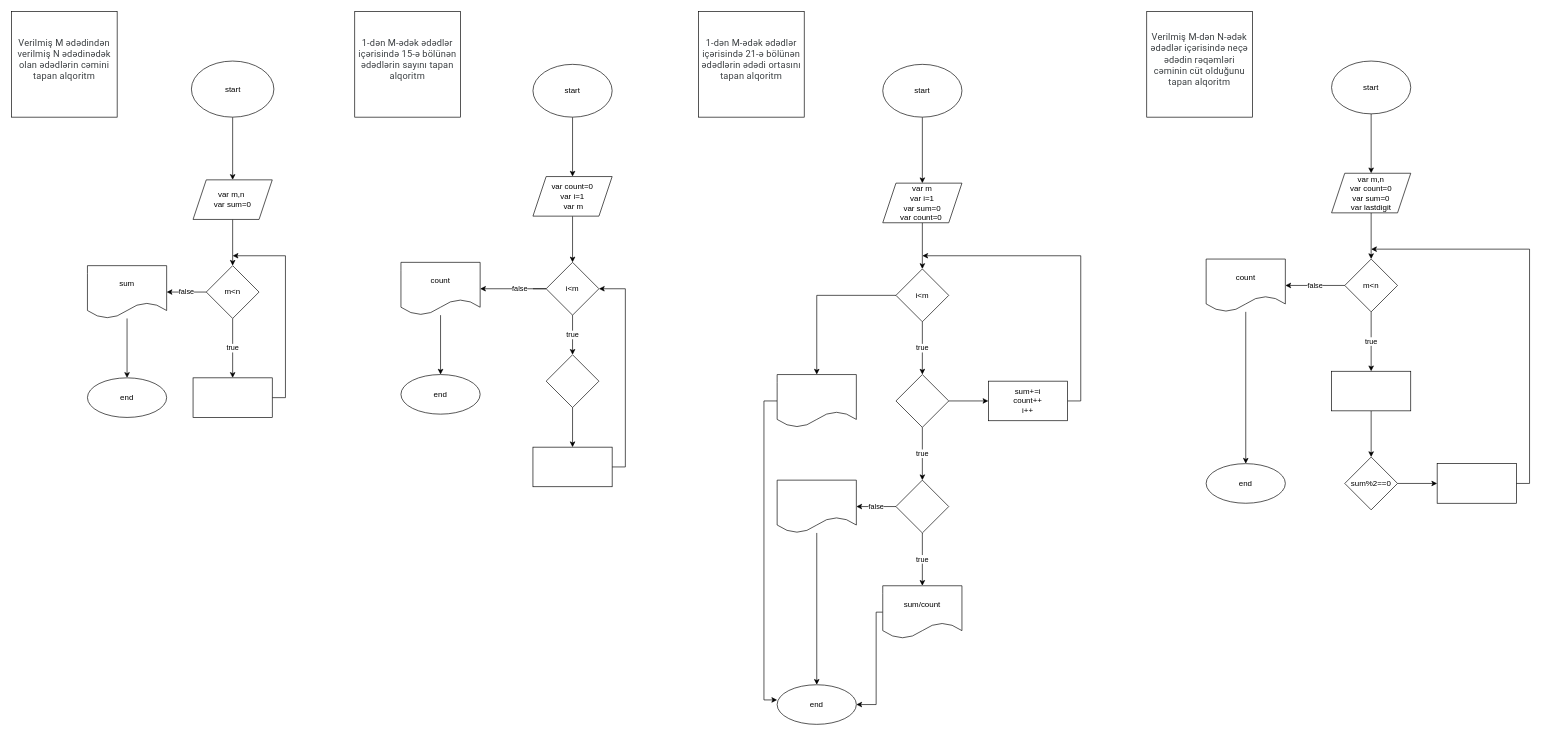
The diagram is 1546 pixels wide and 736 high, and some of its shapes have lost their labels. Each missing label, with the centre of its shape:
"count!=0" goes at point 922,506.
"count++ i++" goes at point 572,466.
"count++ m++" goes at point 1476,483.
"ededler dogru deyil" goes at point 816,506.
"error" goes at point 816,400.
"i%15==0" goes at point 572,381.
"i%21==0" goes at point 922,400.
"lastdigit=m%10 sum+=lastdigit m=(m-lastdigit)/10 sum+=m" goes at point 1371,391.
"sum+=m m++" goes at point 232,397.
